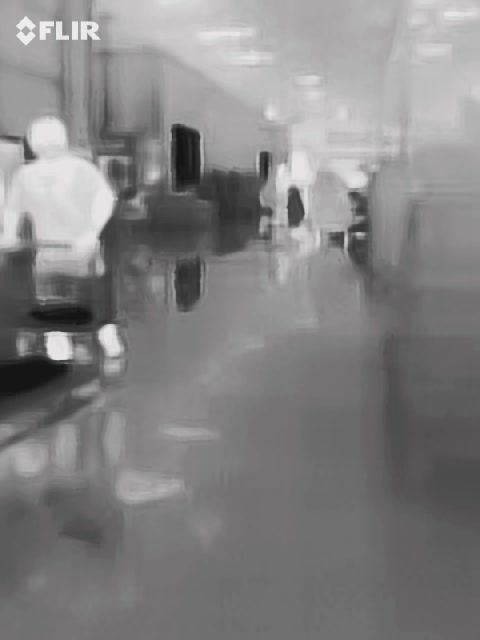head: (25, 114, 69, 161)
